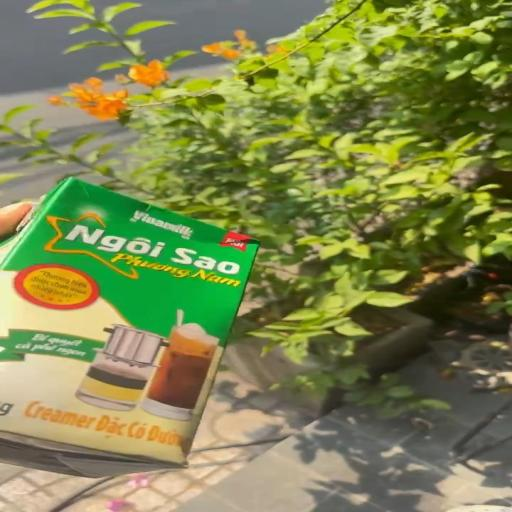ly_giay: (0, 178, 259, 477)
